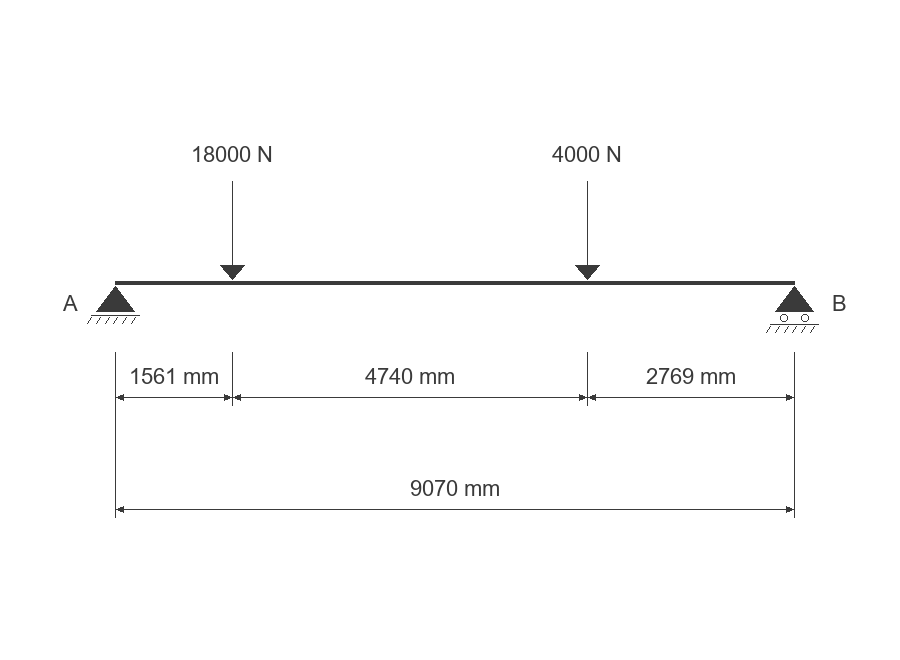pin_support: (87, 286, 140, 324)
point_load: (220, 181, 245, 280), (575, 181, 600, 280)
roller_support: (766, 286, 819, 333)
